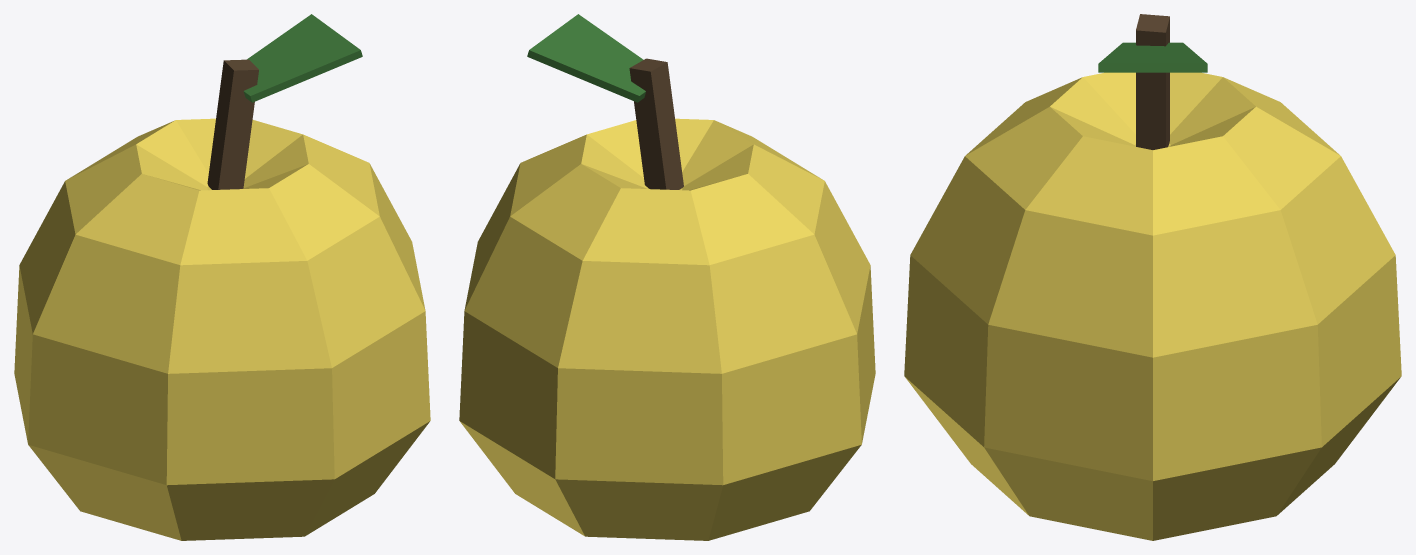
Rendered from FD_Apple_Yellow_01.glb.
3 renders of one model, left to right at view 1: azimuth 30°, elevation 25°; view 2: azimuth 150°, elevation 25°; view 3: azimuth 270°, elevation 25°, orthographic. The views are drawn at different scales.
Visible parts, largest first — view 1: FD_Apple_Yellow_01; view 2: FD_Apple_Yellow_01; view 3: FD_Apple_Yellow_01.
Boxes of the visible parts, x1,y1,x2,y2 form: FD_Apple_Yellow_01: (14,14,430,540); FD_Apple_Yellow_01: (459,14,875,540); FD_Apple_Yellow_01: (904,14,1401,540).
Bounding box in the file's own units: 0.082 × 0.09 × 0.082.
1 material, 1 textured.
